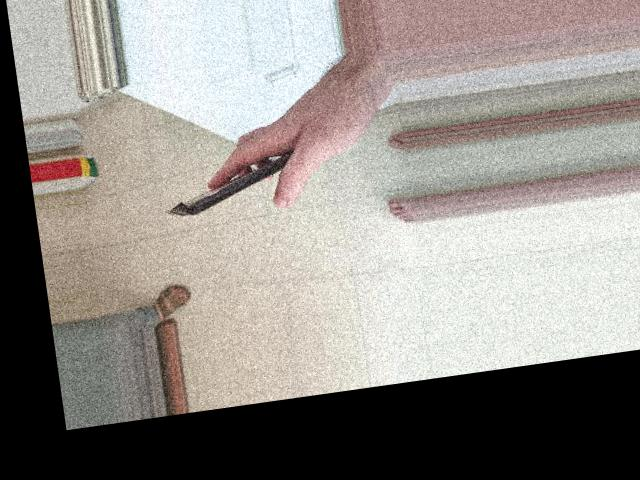chocolate: (154, 134, 325, 232)
